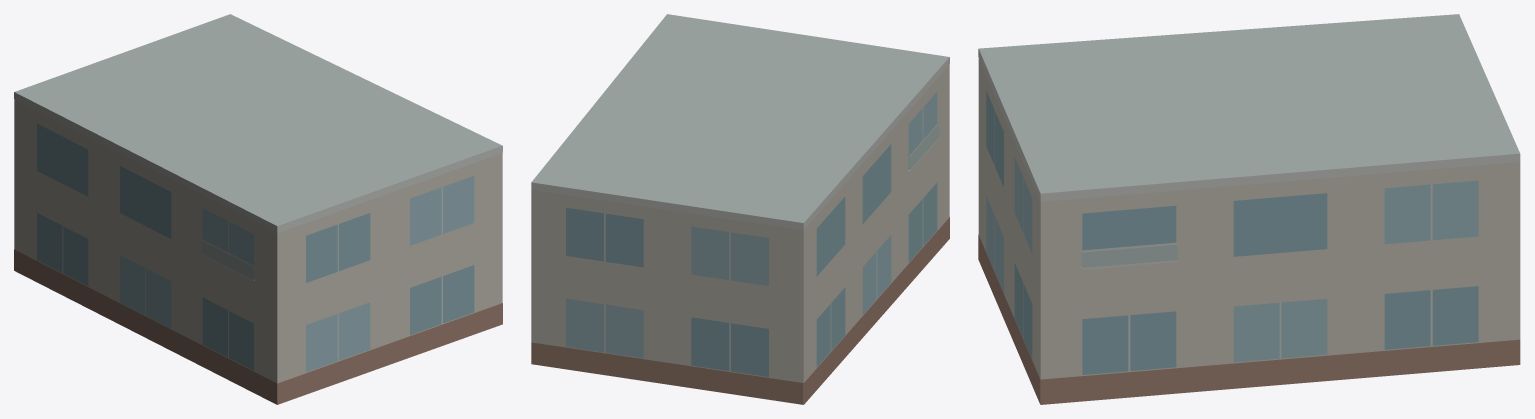
File: survey-upis-32818697.glb
3 renders of one model, left to right at view 1: azimuth 30°, elevation 25°; view 2: azimuth 150°, elevation 25°; view 3: azimuth 270°, elevation 25°, orthographic. The views are drawn at different scales.
Visible parts, largest first — view 1: survey-upis-32818697.tmp; view 2: survey-upis-32818697.tmp; view 3: survey-upis-32818697.tmp.
Boxes of the visible parts, x1=… form: survey-upis-32818697.tmp: x1=14, y1=14, x2=502, y2=404; survey-upis-32818697.tmp: x1=531, y1=14, x2=949, y2=404; survey-upis-32818697.tmp: x1=978, y1=14, x2=1520, y2=404.
Size of the model in its own units: 11.13 by 6.1 by 14.19.
